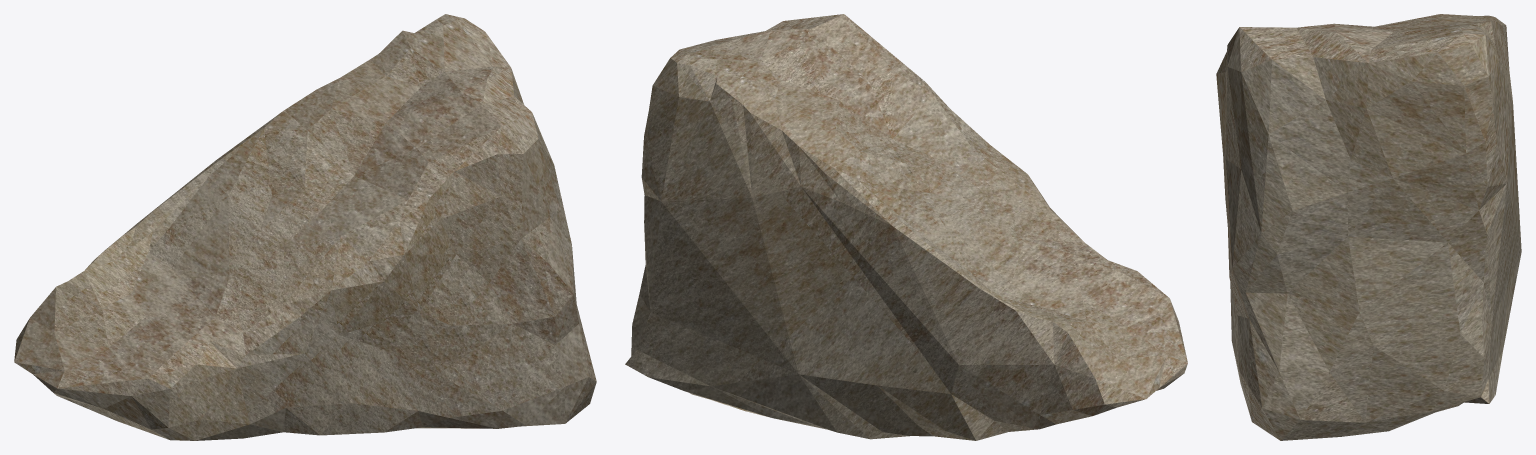
Rendered from piedra4.glb.
The picture shows the model from 3 angles, left to right: view 1: azimuth 30°, elevation 25°; view 2: azimuth 150°, elevation 25°; view 3: azimuth 270°, elevation 25°; orthographic projection. The views are drawn at different scales.
Visible parts, largest first — view 1: skp106; view 2: skp106; view 3: skp106.
Boxes of the visible parts, x1,y1,x2,y2 form: skp106: (14, 14, 596, 440); skp106: (625, 14, 1187, 440); skp106: (1216, 14, 1521, 440).
Bounding box in the file's own units: 0.6446 × 0.4185 × 0.3019.
1 material, 1 textured.
